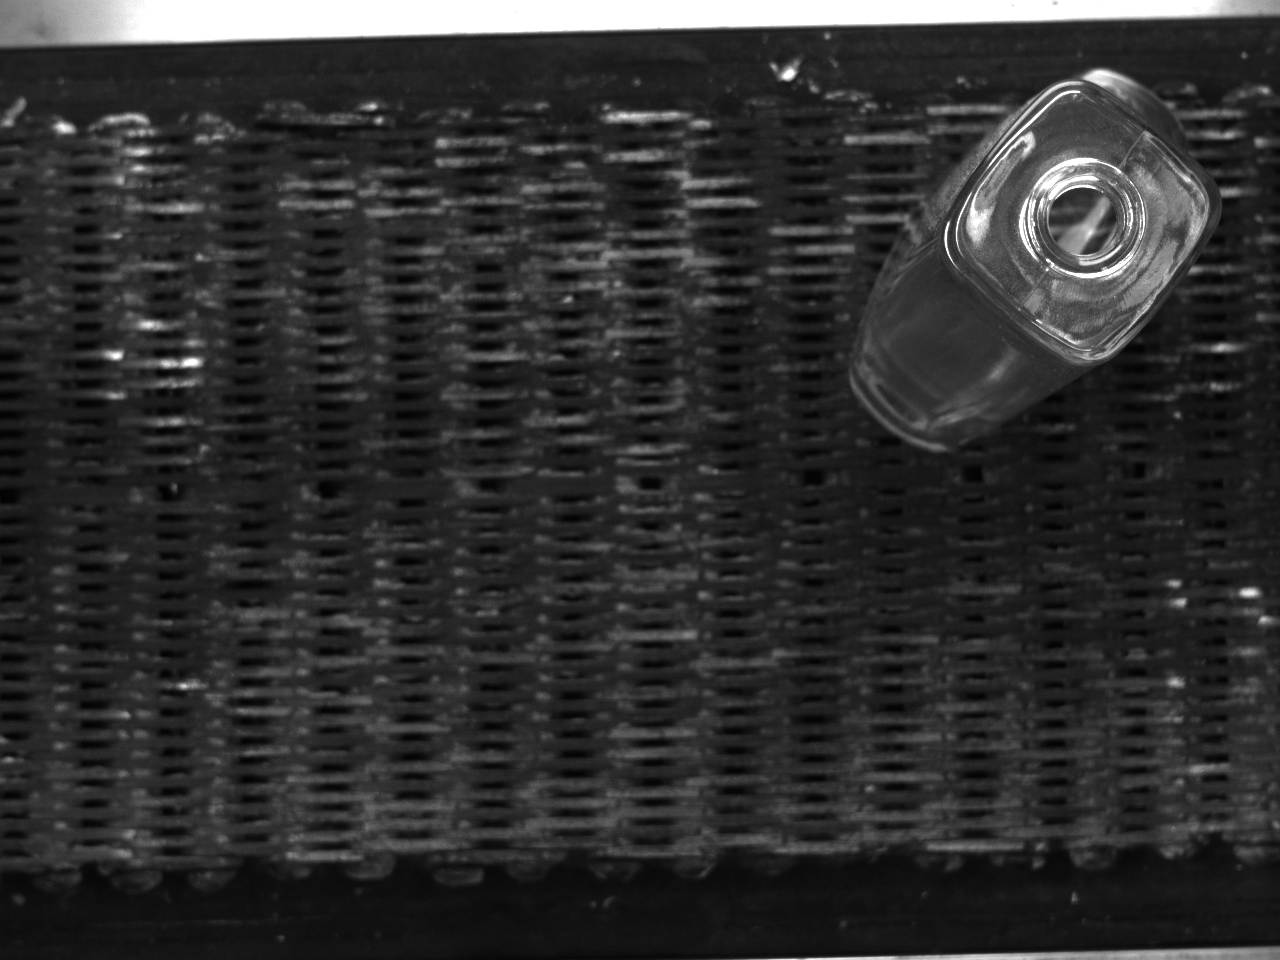bottleneck: (1026, 157, 1147, 279)
